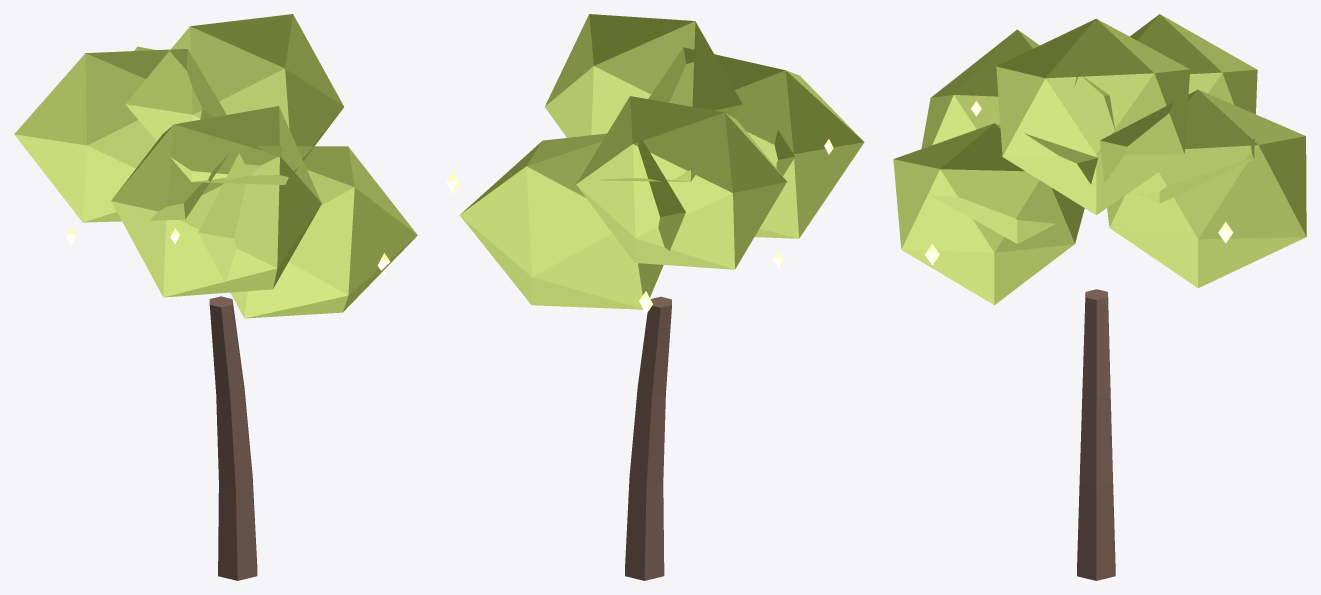
File: olive_meadow_near.glb
The picture shows the model from 3 angles, left to right: view 1: azimuth 30°, elevation 25°; view 2: azimuth 150°, elevation 25°; view 3: azimuth 270°, elevation 25°; orthographic projection.
Parts seen in each view (by area): view 1: olive_meadow_near; view 2: olive_meadow_near; view 3: olive_meadow_near.
Boxes of the visible parts, left/top/right/bottom form: olive_meadow_near: left=14, top=14, right=417, bottom=580; olive_meadow_near: left=446, top=14, right=864, bottom=580; olive_meadow_near: left=893, top=14, right=1306, bottom=580.
Bounding box in the file's own units: 1.79 × 3.18 × 2.23.
